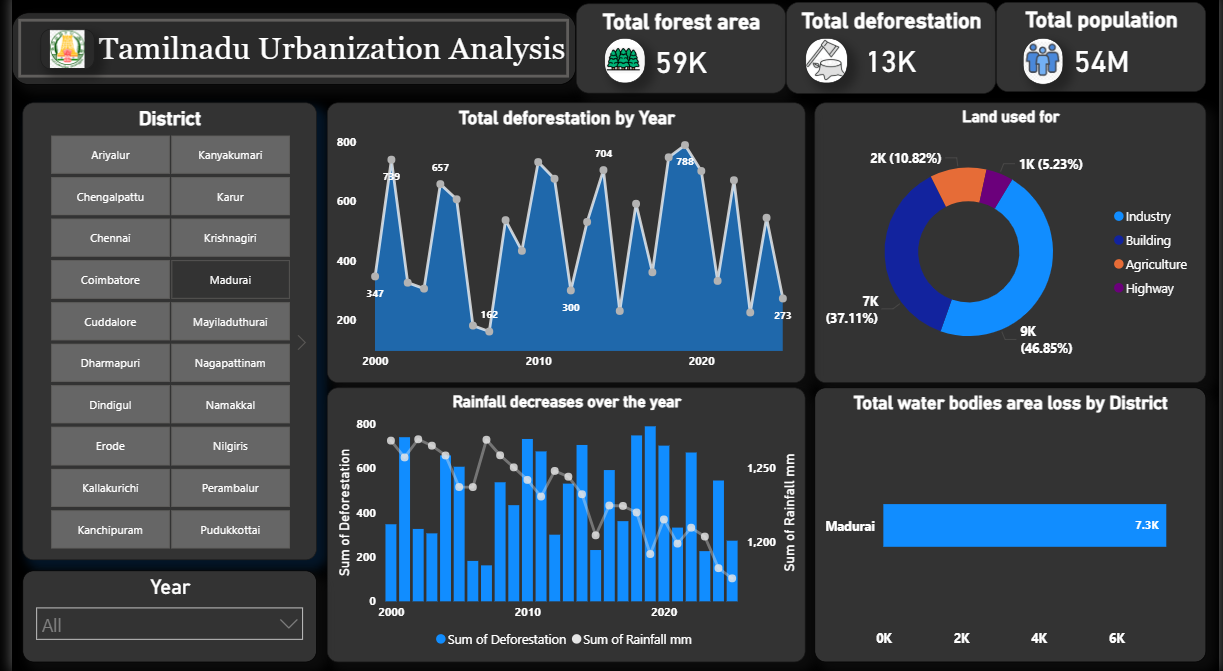

The dashboard page shown, as its layout file describes it:
{"tool":"powerbi","page":{"name":"Overview","canvas":[1280,720],"ordinal":0},"visuals":[{"type":"actionButton","box":[0,20.7,598.1,76.3],"z":0},{"type":"card","title":"Total forest area             ","fields":{"Values":["TamilNadu_Urbanization.total forest arae"]},"box":[598.1,11.1,222.7,95.4],"z":1000},{"type":"card","title":"Total deforestation","fields":{"Values":["TamilNadu_Urbanization.total deforestation"]},"box":[820.8,9.5,222.7,97],"z":2000},{"type":"card","title":"Total population","fields":{"Values":["TamilNadu_Urbanization.total population"]},"box":[1043.4,9.5,222.7,95.4],"z":3000},{"type":"donutChart","title":"Land used for","fields":{"Category":["TamilNadu_Urbanization.Land used for"],"Y":["Sum(TamilNadu_Urbanization.Land occupied)"]},"box":[851,116.1,415.1,297.4],"z":4000},{"type":"slicer","title":"District","fields":{"Values":["TamilNadu_Urbanization.District"]},"box":[11.1,116.1,311.8,485.1],"z":5000},{"type":"areaChart","title":"Total deforestation by Year","fields":{"Category":["TamilNadu_Urbanization.Year"],"Y":["TamilNadu_Urbanization.total deforestation"]},"box":[334,116.1,507.4,297.4],"z":6000},{"type":"lineStackedColumnComboChart","title":"Rainfall  decreases over the year","fields":{"Category":["TamilNadu_Urbanization.Year"],"Y":["Sum(TamilNadu_Urbanization.Deforestation)"],"Y2":["Sum(TamilNadu_Urbanization.Rainfall mm)"]},"box":[334,418.3,507.4,291.1],"z":7000},{"type":"slicer","title":"Year","fields":{"Values":["TamilNadu_Urbanization.Year"]},"box":[11.1,612.4,311.8,97],"z":8000},{"type":"clusteredBarChart","title":"Total water bodies area loss by District","fields":{"Category":["TamilNadu_Urbanization.District"],"Y":["TamilNadu_Urbanization.total water bodies area loss"]},"box":[851,418.3,415.1,291.1],"z":9000},{"type":"image","box":[1072.1,47.7,42.9,49.3],"z":10000},{"type":"image","box":[841.4,47.7,44.5,47.7],"z":11000},{"type":"image","box":[628.3,47.7,43,48],"z":12000},{"type":"image","box":[30.2,38.2,57.3,42.9],"z":13000}]}

Visuals, with their boxes in screenshot pixels (x1, y1, x2, y2), scaled from the page's 1280x720 canvas onto the 1223x671 screenshot:
actionButton: BBox(0, 19, 571, 90)
"Total forest area             " card: BBox(571, 10, 784, 99)
"Total deforestation" card: BBox(784, 9, 997, 99)
"Total population" card: BBox(997, 9, 1210, 98)
"Land used for" donutChart: BBox(813, 108, 1210, 385)
"District" slicer: BBox(11, 108, 309, 560)
"Total deforestation by Year" areaChart: BBox(319, 108, 804, 385)
"Rainfall  decreases over the year" lineStackedColumnComboChart: BBox(319, 390, 804, 661)
"Year" slicer: BBox(11, 571, 309, 661)
"Total water bodies area loss by District" clusteredBarChart: BBox(813, 390, 1210, 661)
image: BBox(1024, 44, 1065, 90)
image: BBox(804, 44, 846, 89)
image: BBox(600, 44, 641, 89)
image: BBox(29, 36, 84, 76)
